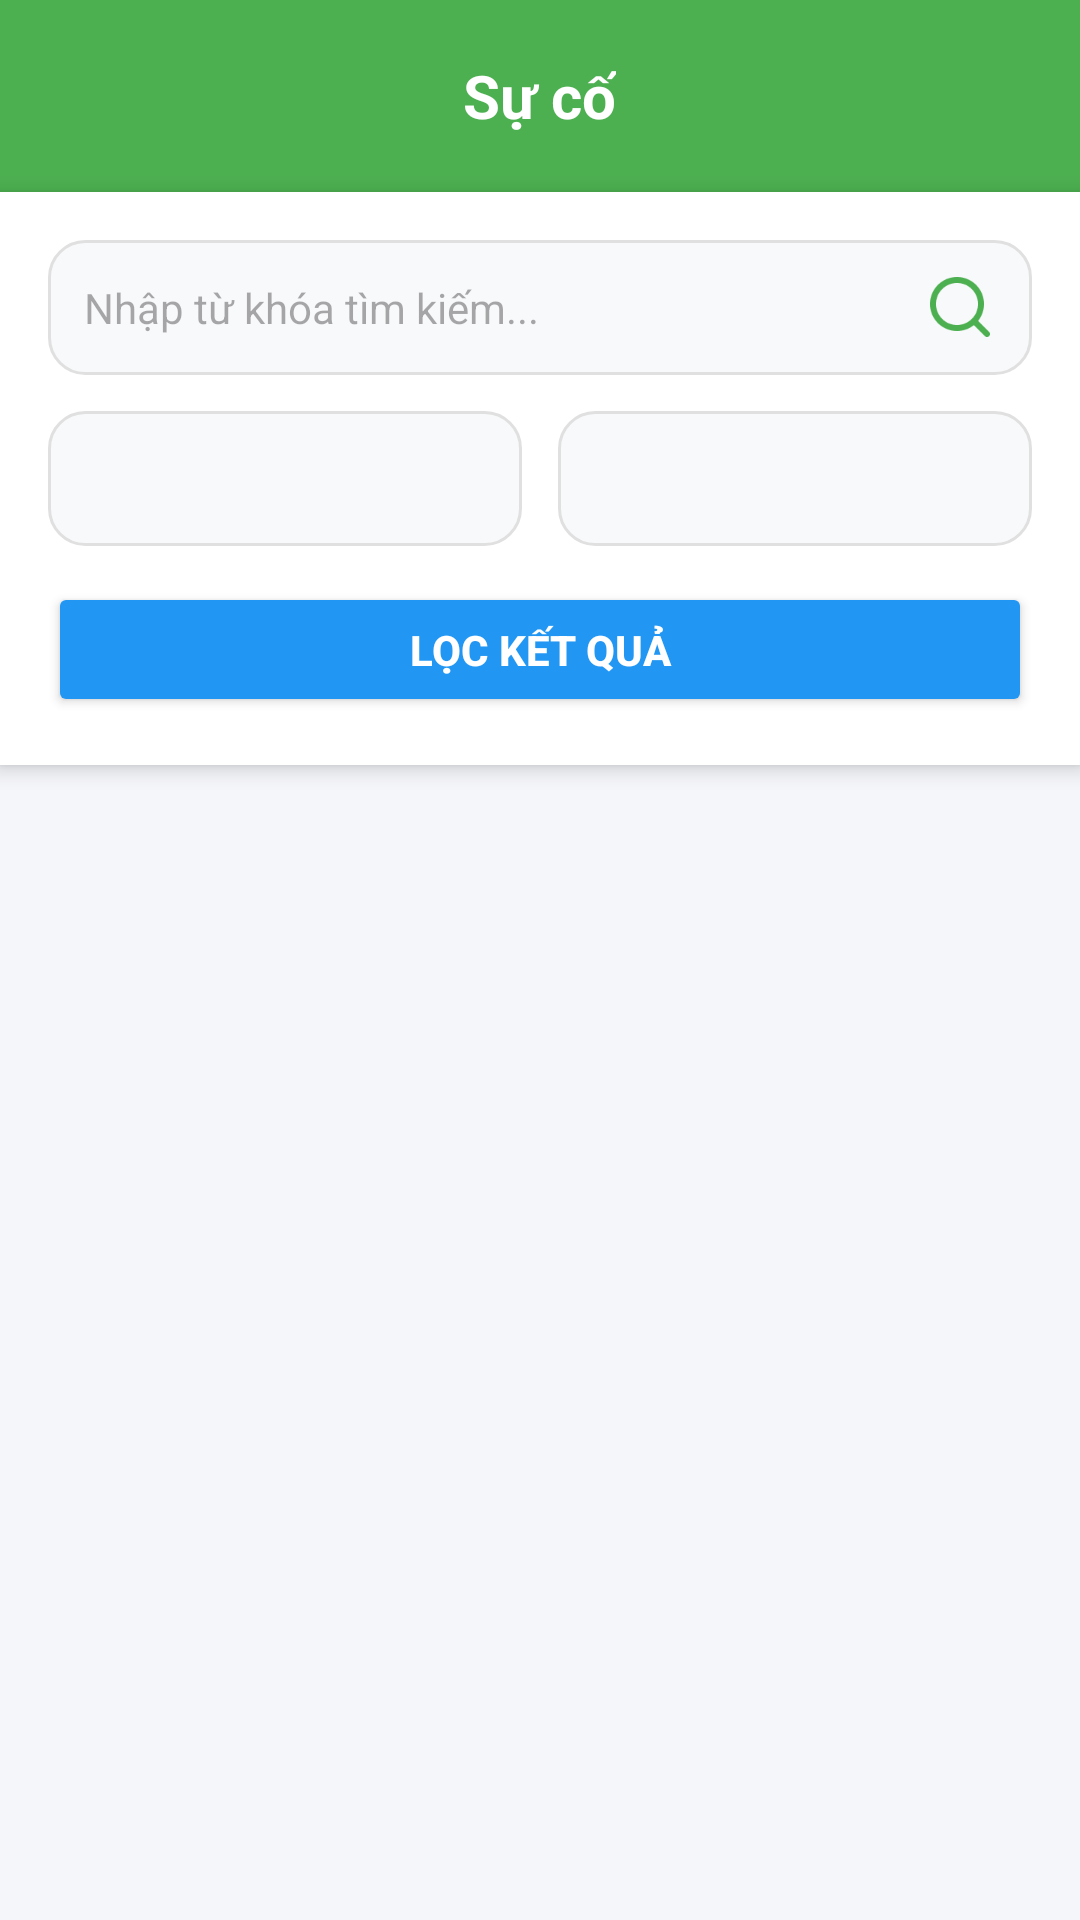

Point at icon controls on the screen. Image size 1080 x 1920, points as (x=x, y=y).
search: (x=960, y=307)
